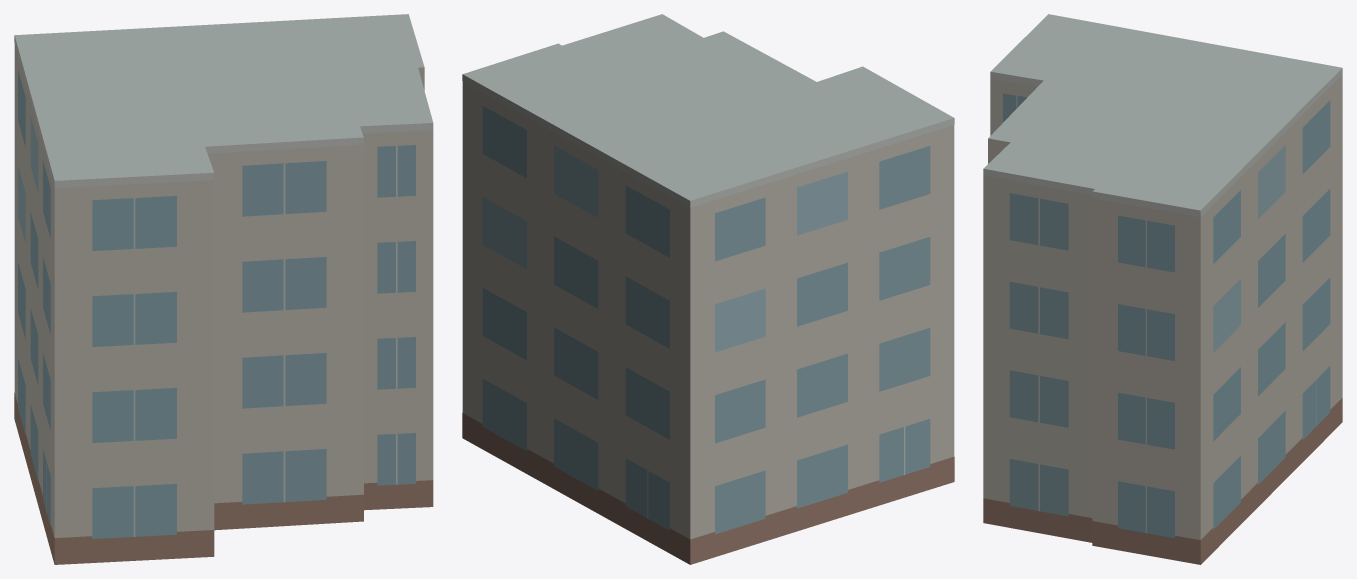
File: survey-upis-33025422.glb
3 views of the same model, side by side, from view 1: azimuth 30°, elevation 25°; view 2: azimuth 150°, elevation 25°; view 3: azimuth 270°, elevation 25° (orthographic). The views are drawn at different scales.
Visible parts, largest first — view 1: survey-upis-33025422.tmp; view 2: survey-upis-33025422.tmp; view 3: survey-upis-33025422.tmp.
Boxes of the visible parts, x1=… form: survey-upis-33025422.tmp: x1=14, y1=14, x2=433, y2=564; survey-upis-33025422.tmp: x1=462, y1=14, x2=954, y2=564; survey-upis-33025422.tmp: x1=983, y1=14, x2=1342, y2=564.
Bounding box in the file's own units: 15.36 × 12.9 × 11.86.
